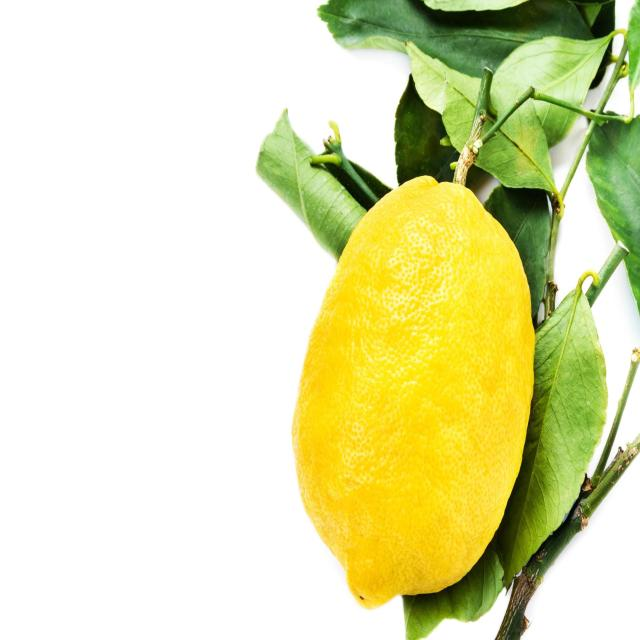lemon: (285, 168, 541, 616)
